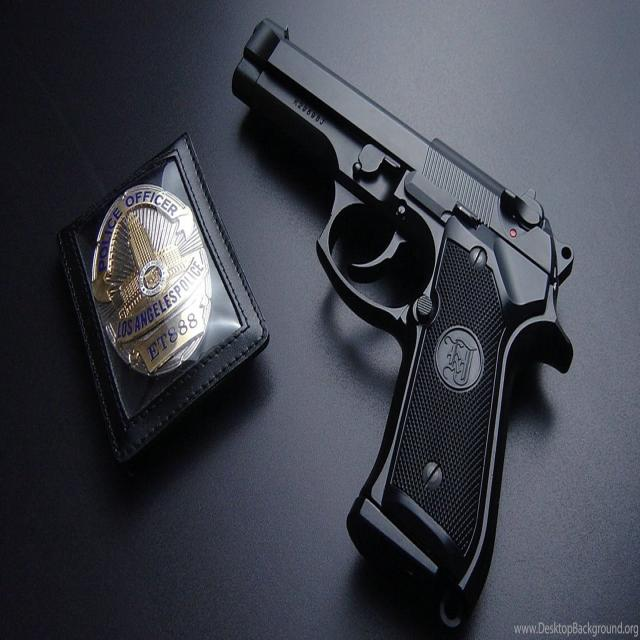handgun: (232, 16, 573, 640)
